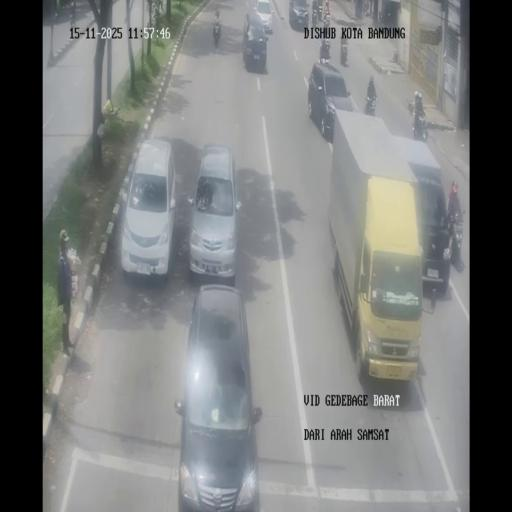car: (176, 280, 263, 506), (120, 138, 175, 282), (187, 142, 241, 283), (410, 164, 452, 296), (309, 60, 357, 140), (242, 12, 268, 71), (288, 0, 309, 30)
motorcycle: (448, 209, 465, 271), (411, 106, 428, 141), (364, 94, 376, 117), (213, 19, 220, 45), (340, 44, 348, 66), (323, 8, 331, 28), (324, 40, 330, 61), (312, 7, 318, 25), (362, 0, 368, 16), (378, 9, 383, 23)
truck: (330, 113, 431, 380)
